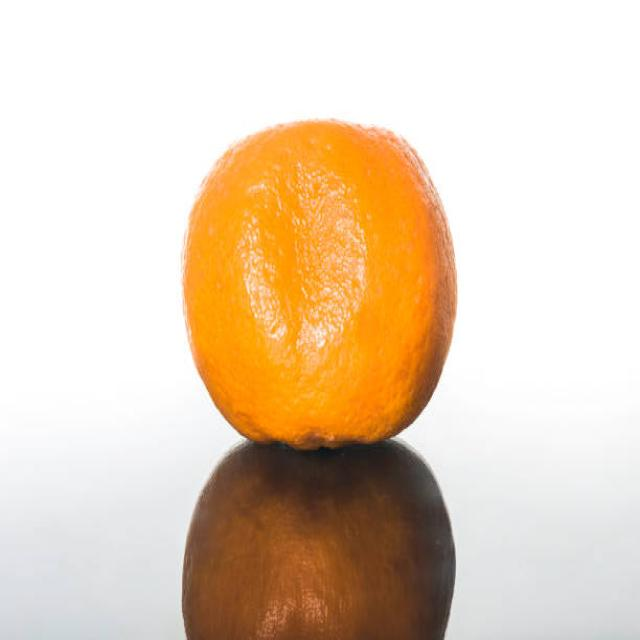overripe: (179, 108, 462, 458)
